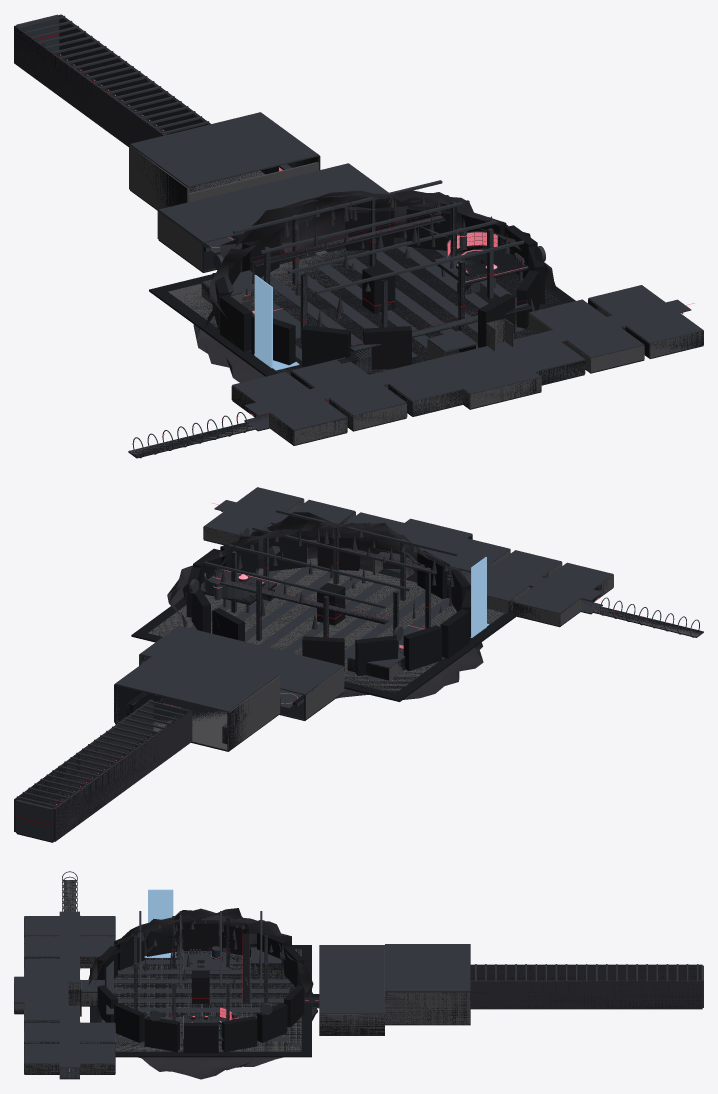
File: red_citadel.glb
The picture shows the model from 3 angles, top to bottom: view 1: azimuth 30°, elevation 25°; view 2: azimuth 150°, elevation 25°; view 3: azimuth 270°, elevation 25°; orthographic projection. The views are drawn at different scales.
Visible parts, largest first — view 1: hub_floor_COL, hub_rock, a1h_ceiling, hng_ceiling, cor_ceiling, rw_wall-1, rw_wall1, hub_floor, Training_ceiling, a1h_wall-1, hub_wall11_COL, hub_wall10_COL (+44 smaller); view 2: hub_floor, hub_floor_COL, hub_rock, a1h_ceiling, rw_wall-1, hng_ceiling, rw_wall1, cor_ceiling, rw_wall-1_COL, a1h_wall-1, hub_wall7_COL, Training_ceiling (+39 smaller); view 3: hub_floor_COL, rw_wall1, hub_rock, hng_ceiling, a1h_ceiling, hub_floor, rw_wall-1, cor_ceiling, a1h_wall1, a1h_wall1_COL, rw_wall1_COL, hng_wall1 (+41 smaller).
Boxes of the visible parts, x1=… form: hub_floor_COL: x1=149, y1=237, x2=575, y2=376; hub_rock: x1=193, y1=190, x2=557, y2=385; a1h_ceiling: x1=130, y1=112, x2=318, y2=187; hng_ceiling: x1=158, y1=163, x2=388, y2=243; cor_ceiling: x1=244, y1=299, x2=691, y2=415; rw_wall-1: x1=14, y1=25, x2=165, y2=146; rw_wall1: x1=59, y1=14, x2=210, y2=133; hub_floor: x1=168, y1=238, x2=563, y2=373; Training_ceiling: x1=440, y1=354, x2=541, y2=394; a1h_wall-1: x1=129, y1=145, x2=189, y2=210; hub_wall11_COL: x1=363, y1=326, x2=411, y2=369; hub_wall10_COL: x1=302, y1=325, x2=350, y2=366; hub_floor: x1=148, y1=558, x2=504, y2=692; hub_floor_COL: x1=131, y1=557, x2=515, y2=701; hub_rock: x1=167, y1=512, x2=483, y2=699; a1h_ceiling: x1=115, y1=646, x2=278, y2=712; rw_wall-1: x1=53, y1=709, x2=192, y2=841; hng_ceiling: x1=139, y1=625, x2=343, y2=695; rw_wall1: x1=14, y1=699, x2=153, y2=831; cor_ceiling: x1=214, y1=500, x2=602, y2=600; rw_wall-1_COL: x1=52, y1=708, x2=191, y2=841; a1h_wall-1: x1=227, y1=675, x2=280, y2=750; hub_wall7_COL: x1=403, y1=625, x2=441, y2=670; Training_ceiling: x1=395, y1=518, x2=472, y2=550; hub_floor_COL: x1=90, y1=945, x2=311, y2=1057; rw_wall1: x1=471, y1=980, x2=702, y2=1008; hub_rock: x1=88, y1=908, x2=317, y2=1079; hng_ceiling: x1=319, y1=945, x2=384, y2=1013; a1h_ceiling: x1=385, y1=944, x2=470, y2=991; hub_floor: x1=101, y1=949, x2=301, y2=1051; rw_wall-1: x1=471, y1=965, x2=701, y2=980; cor_ceiling: x1=59, y1=911, x2=79, y2=1067; a1h_wall1: x1=385, y1=992, x2=470, y2=1024; a1h_wall1_COL: x1=385, y1=992, x2=470, y2=1024; rw_wall1_COL: x1=470, y1=981, x2=702, y2=1008; hng_wall1: x1=319, y1=1014, x2=384, y2=1034.
Bounding box in the file's own units: 190 × 41.83 × 274.
Materials: 19 (17 with a texture image).
